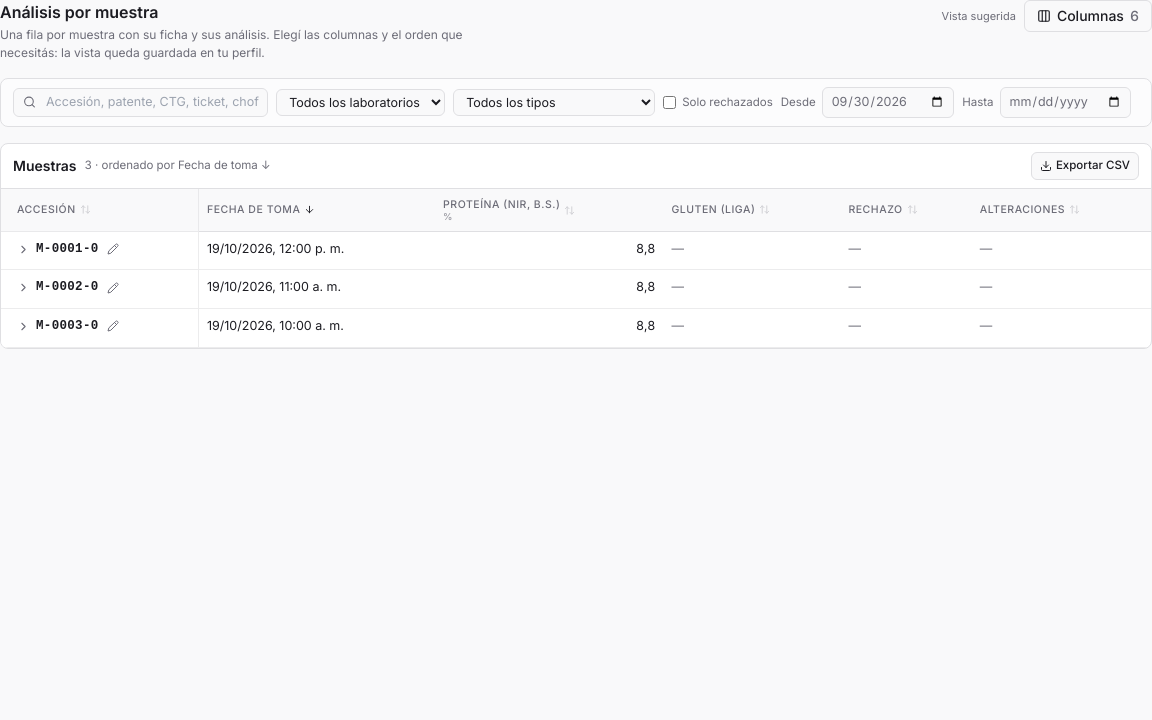
Scenario: LabAnalysisPage: editar la ficha desde la grilla › con QC, la fila abierta y la ficha completa ofrecen editar
Click the row "M-0001-0 19/10/2026, 12:00 p. m. 8,8 — — —".
click(576, 251)  # box left=1, top=232, right=1151, bottom=270
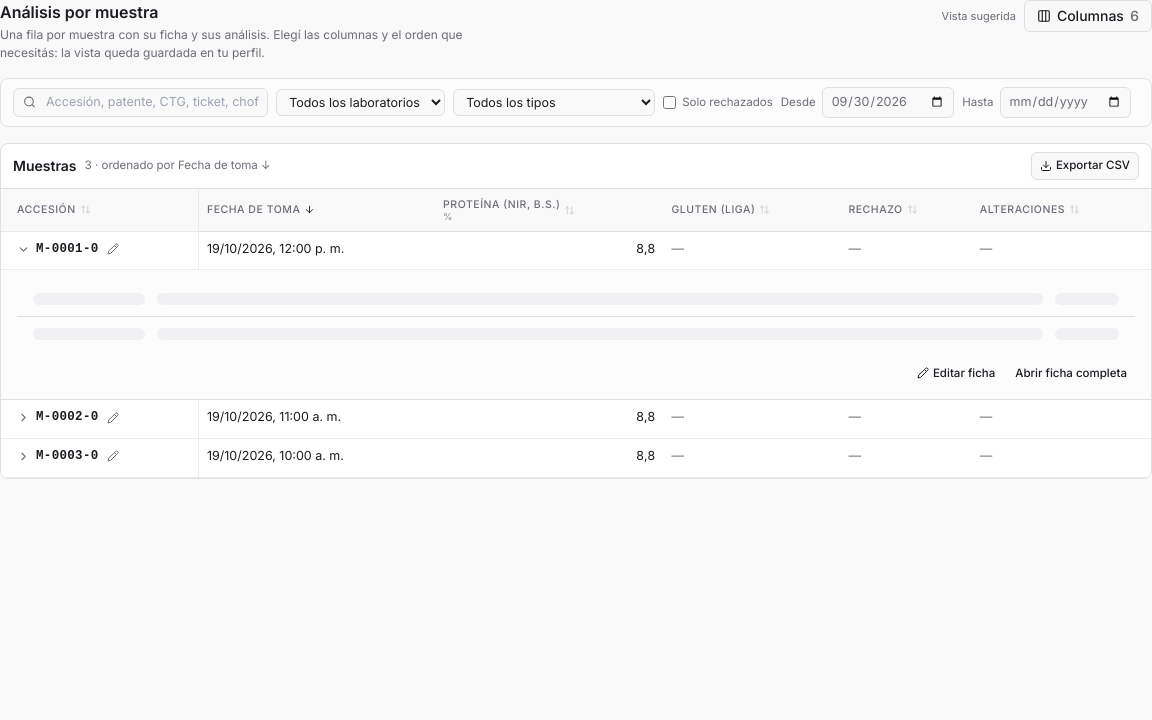
expect the button "Editar ficha" is shown: met, box left=909, top=359, right=1003, bottom=387
Click the button "Abrir ficha completa".
click(1071, 373)  # box left=1007, top=359, right=1135, bottom=387
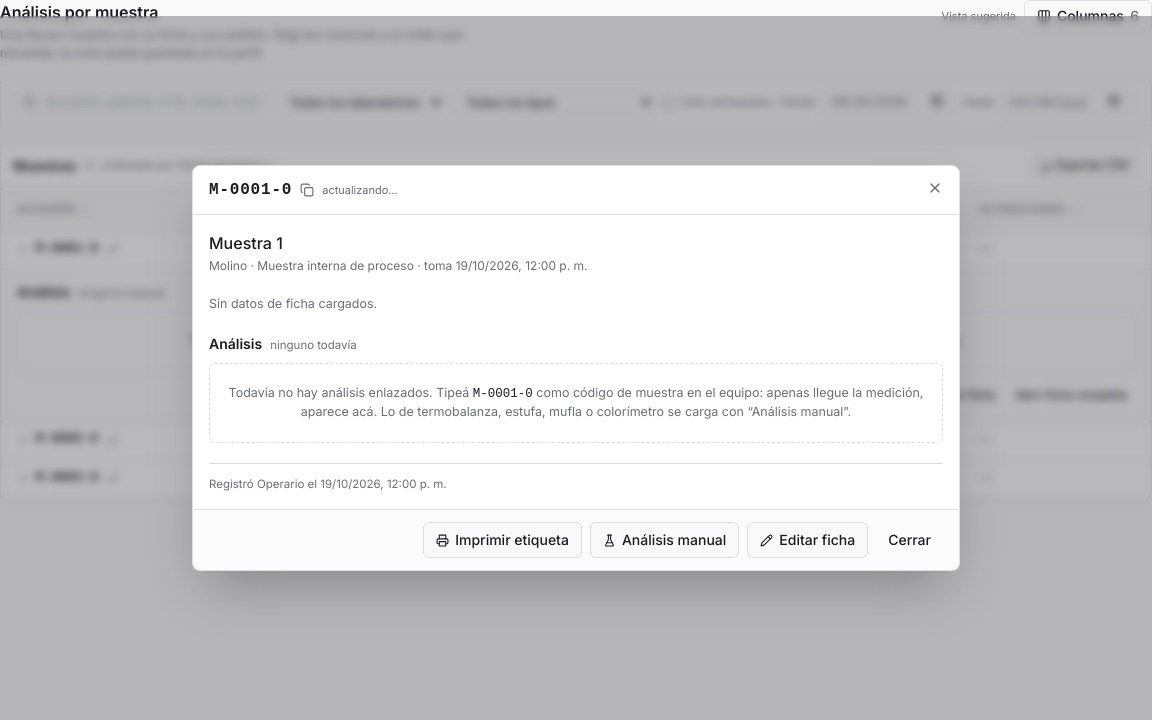
expect the button "Análisis manual" is shown: met, box left=590, top=522, right=739, bottom=558
Click the button "Editar ficha".
click(808, 540)  # box left=747, top=522, right=868, bottom=558
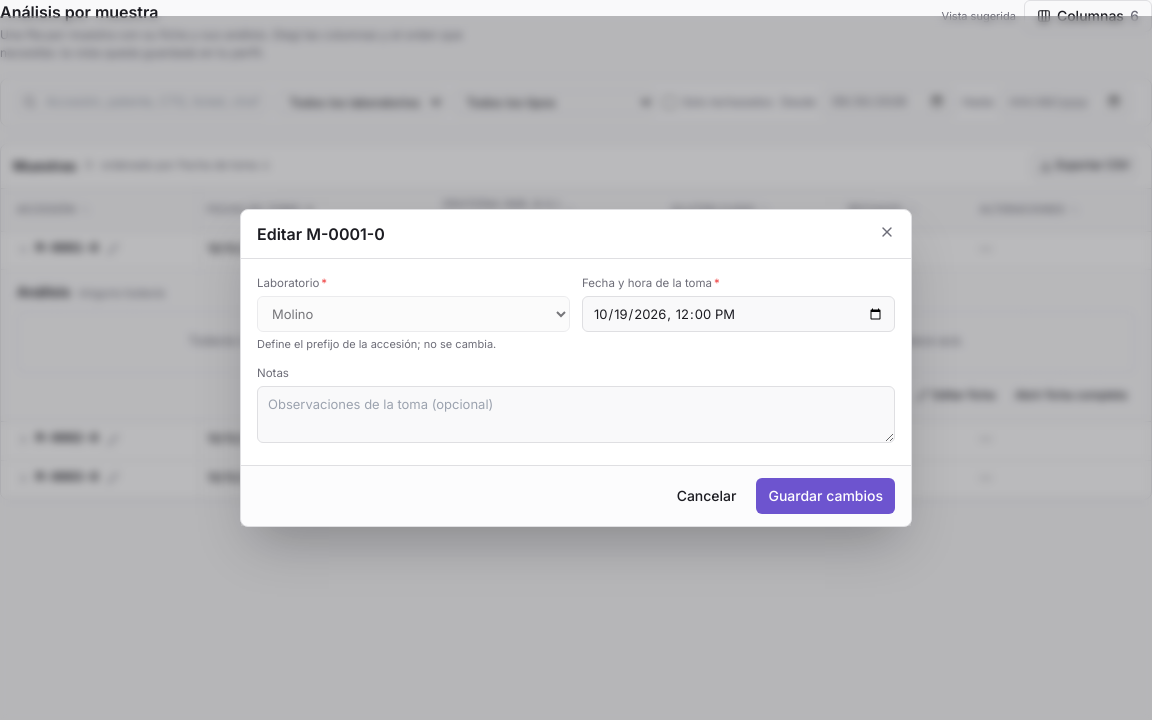
expect the heading "Editar M-0001-0" is shown: met, box left=257, top=222, right=385, bottom=246
